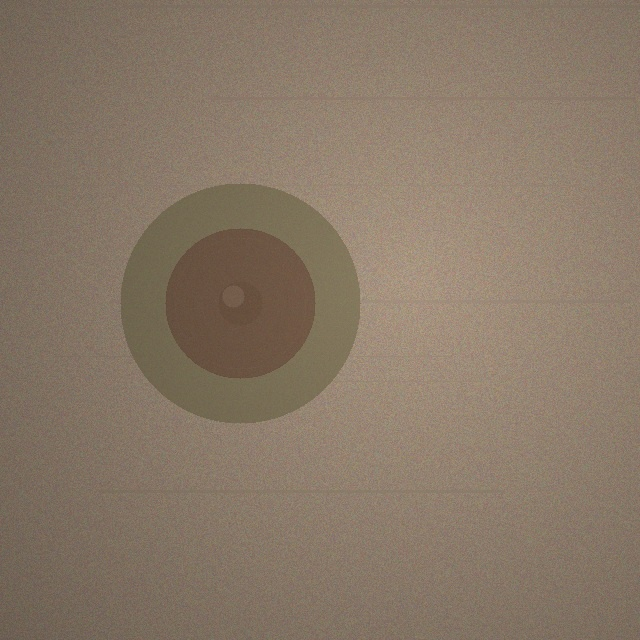good: (120, 183, 360, 423)
